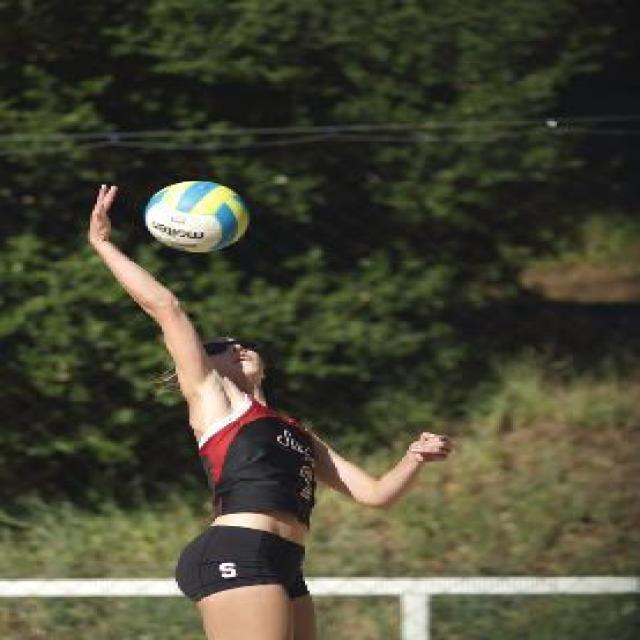volleyball: (144, 182, 247, 254)
